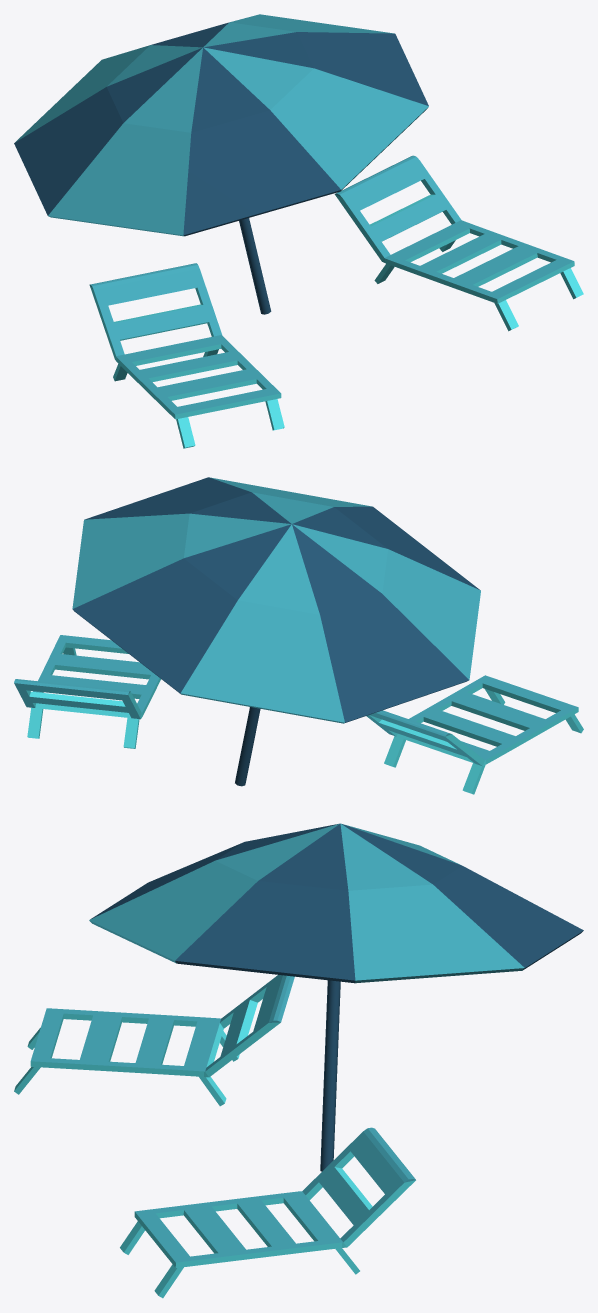
File: Chill_Place_LV1.FBX
The picture shows the model from 3 angles, top to bottom: view 1: azimuth 30°, elevation 25°; view 2: azimuth 150°, elevation 25°; view 3: azimuth 270°, elevation 25°; orthographic projection. The views are drawn at different scales.
Visible parts, largest first — view 1: Chill_Place_LV1; view 2: Chill_Place_LV1; view 3: Chill_Place_LV1.
Boxes of the visible parts, left/top/right/bottom form: Chill_Place_LV1: left=14, top=14, right=583, bottom=448; Chill_Place_LV1: left=14, top=477, right=583, bottom=794; Chill_Place_LV1: left=14, top=823, right=583, bottom=1298.
Bounding box in the file's own units: 7.18 × 4.04 × 6.58.
